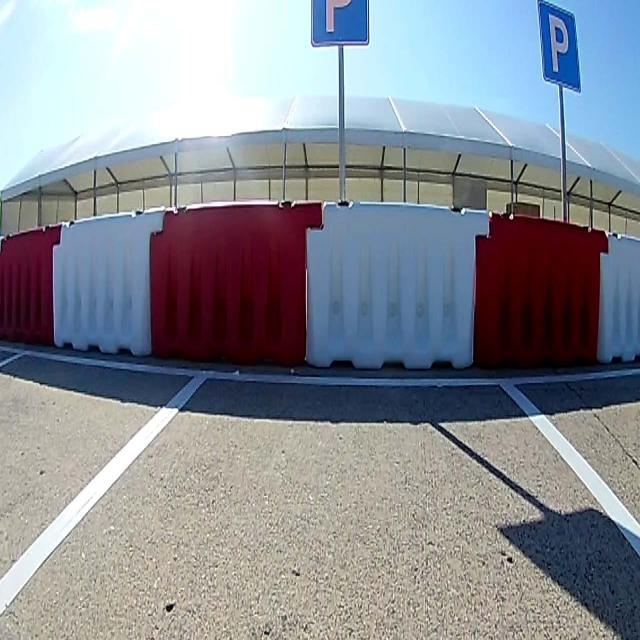park: (536, 1, 580, 91)
